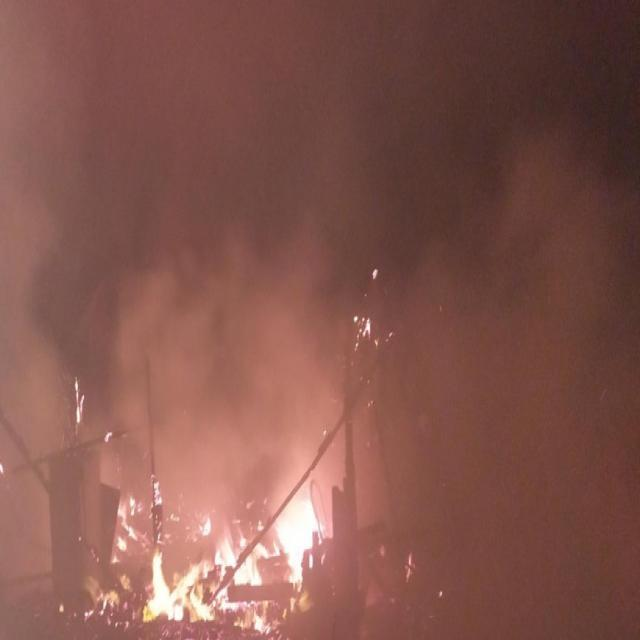Fire: (73, 374, 323, 640)
Smoke: (346, 136, 638, 640), (21, 27, 337, 361)
